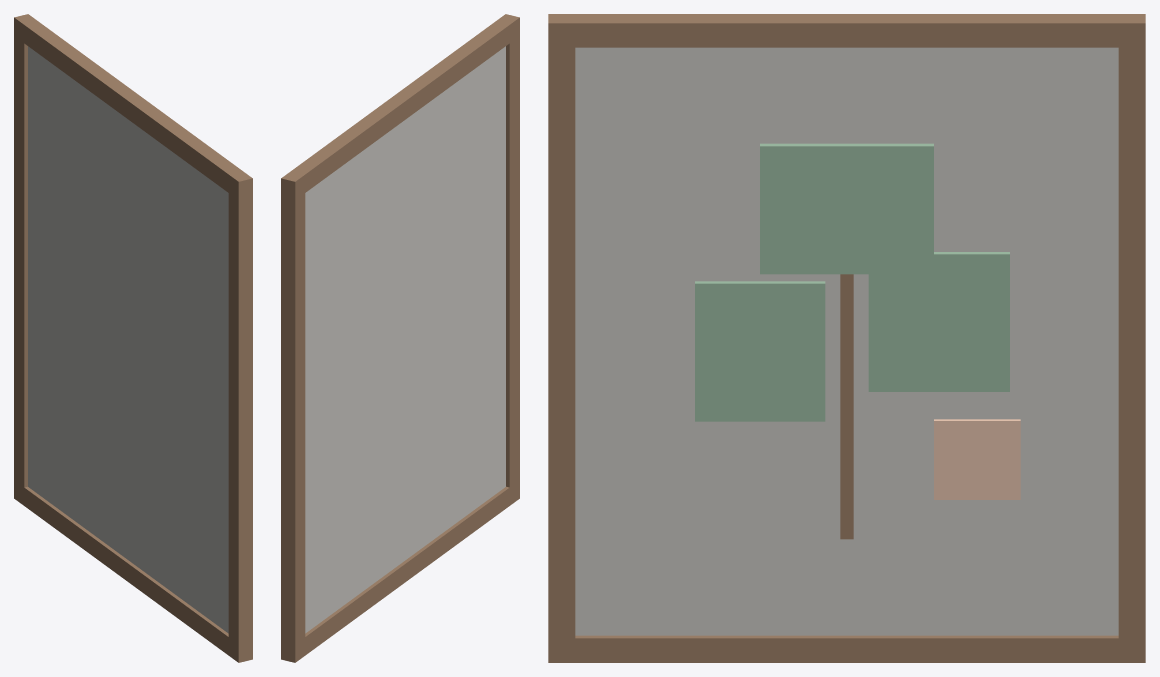
File: Poster_Monstera.glb
3 views of the same model, side by side, from view 1: azimuth 30°, elevation 25°; view 2: azimuth 150°, elevation 25°; view 3: azimuth 270°, elevation 25° (orthographic). The views are drawn at different scales.
Visible parts, largest first — view 1: Poster_Monstera; view 2: Poster_Monstera; view 3: Poster_Monstera.
Part boxes in pixels (left/top/right/bottom): Poster_Monstera: left=14, top=14, right=252, bottom=662; Poster_Monstera: left=281, top=14, right=519, bottom=662; Poster_Monstera: left=548, top=14, right=1145, bottom=662.
Bounding box in the file's own units: 0.0204 × 0.65 × 0.55.
